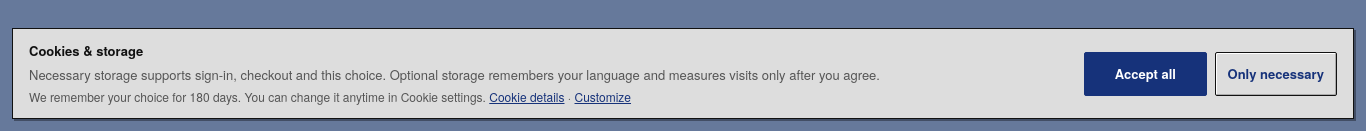
Test: cookie choices › marks the dock that holds only the launcher, so a phone can drop it into the page
Click the button "Only necessary" at (1276, 74), box [1215,52,1337,96]
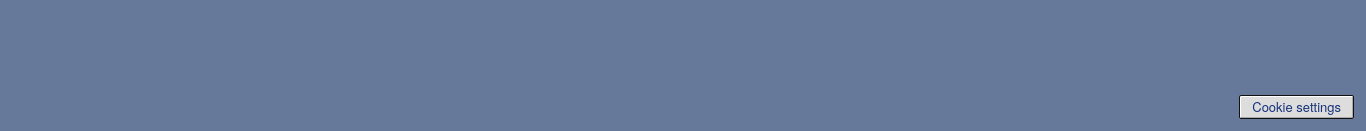
Expected: the element with class "cookie-consent-layer" is gone
